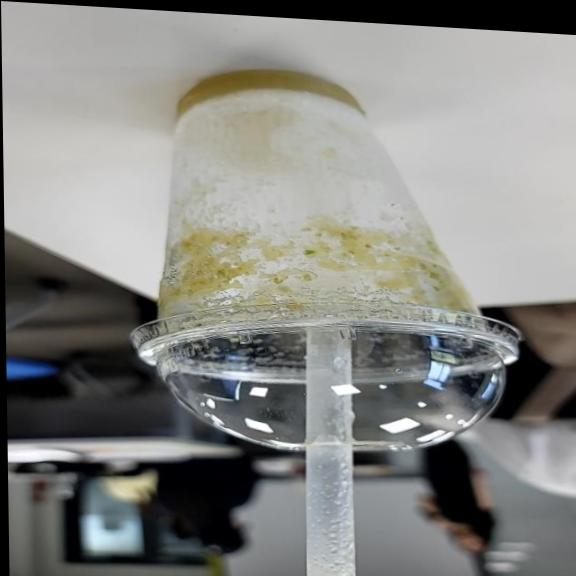Plastik: (131, 69, 519, 449)
